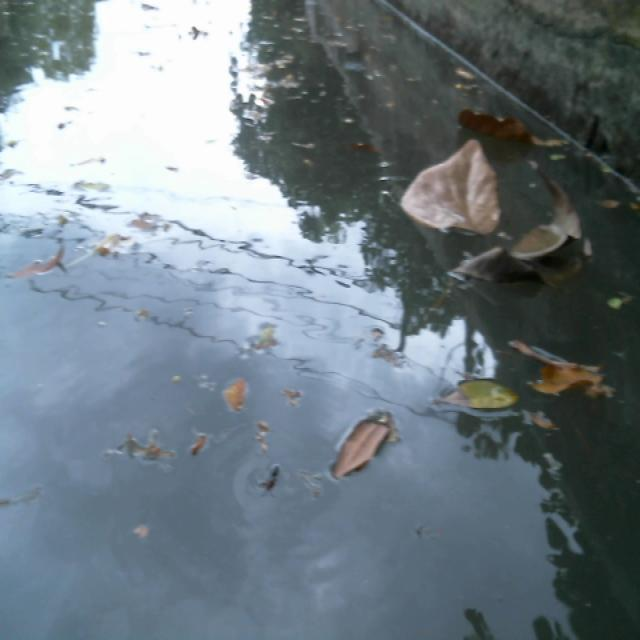Big-leaf: (448, 162, 605, 297), (390, 132, 515, 243), (512, 325, 621, 406), (452, 88, 572, 153)
Small-leaf: (319, 395, 399, 493), (442, 362, 536, 439), (214, 366, 248, 416)
